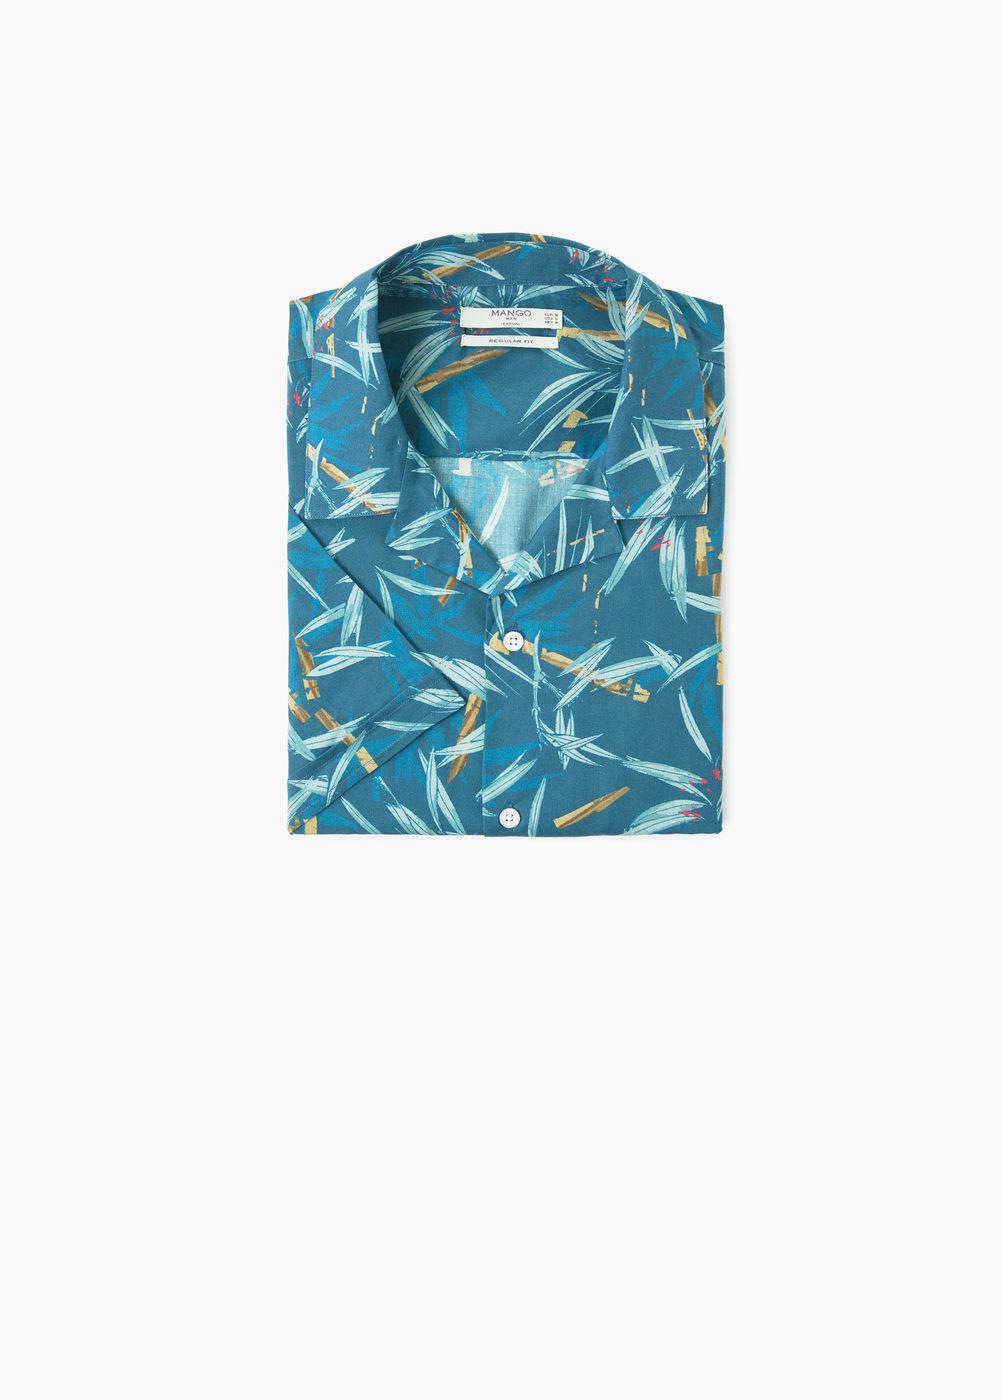teeshirt: (261, 221, 740, 855)
